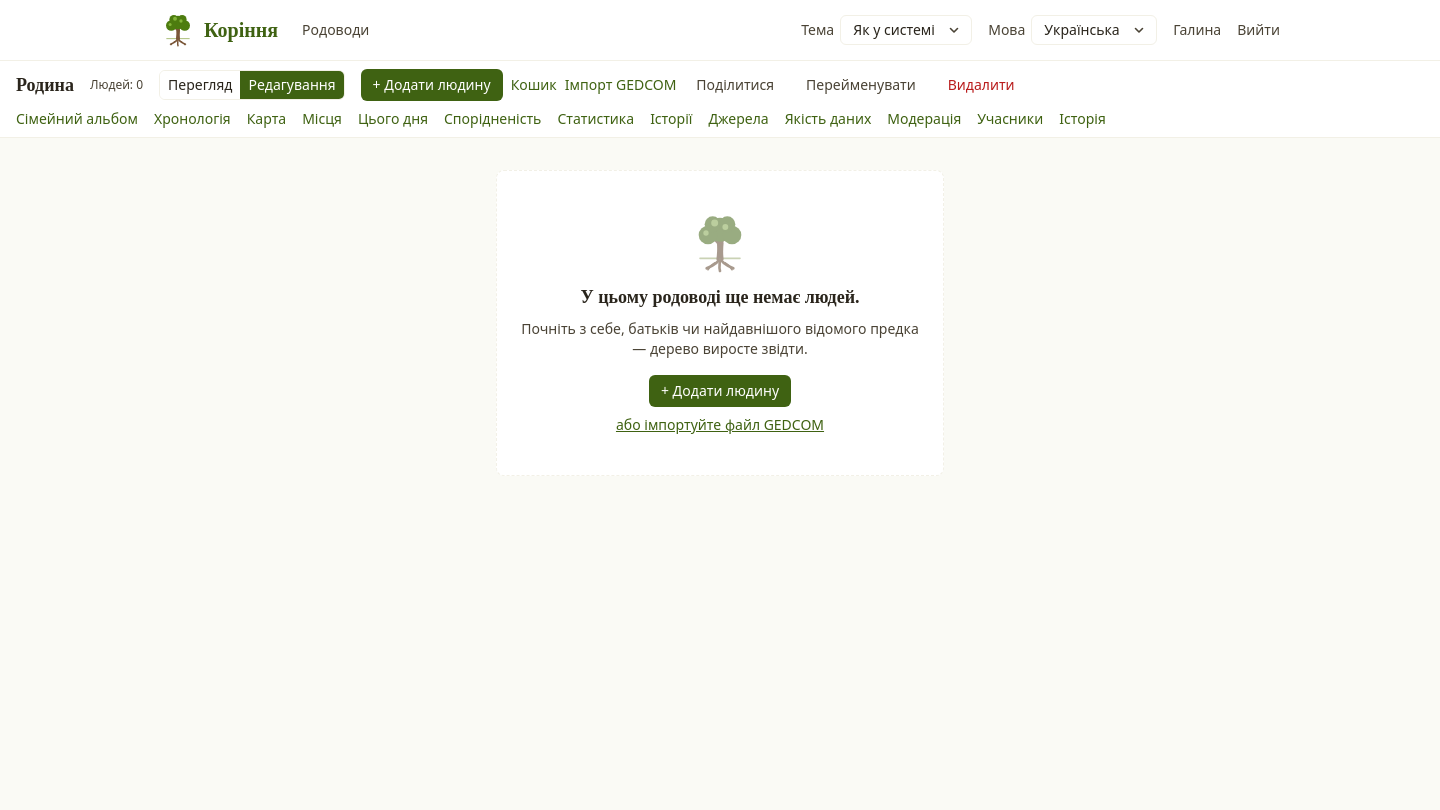
admin trees › renames and deletes the open tree from builder mode, for admins only
Check: the heading "Родина" is shown, box [16,71,74,99]
Click the button with aria-label "Перейменувати родовід «Родина»": (861, 85) [794,69,928,101]
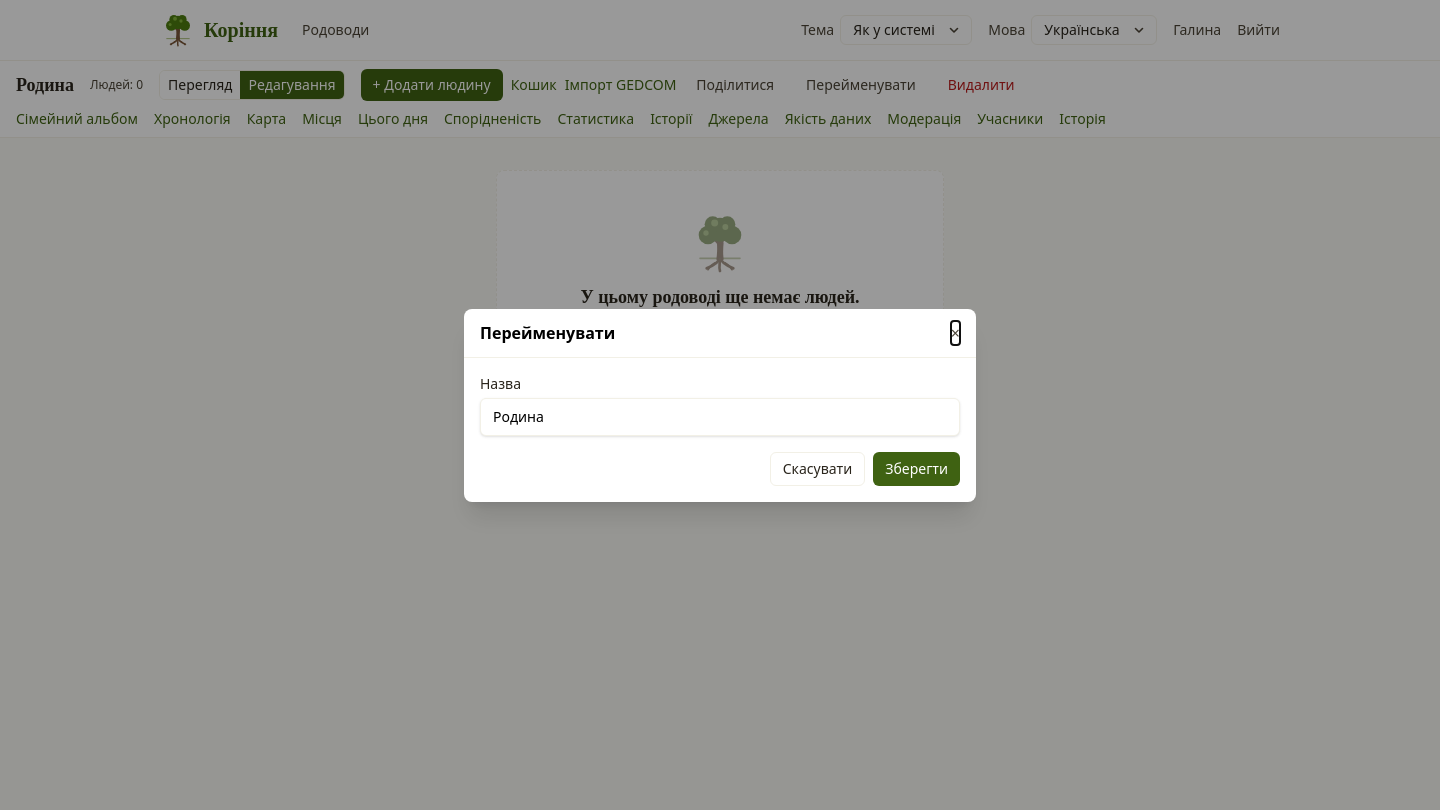
Replace the text in the field labelled "Назва" with "Наша родина": (720, 416) [480,398,960,436]
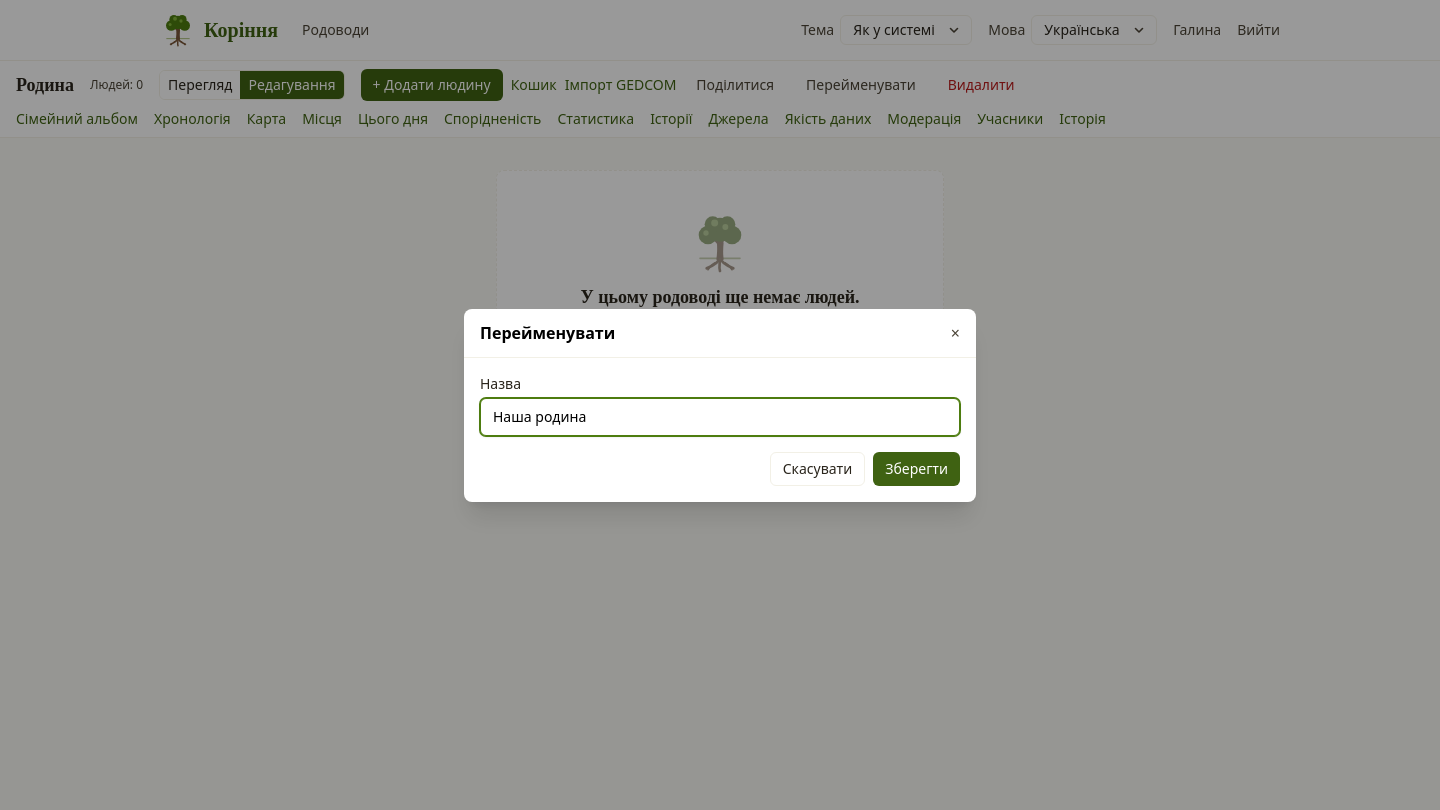
Click the button "Зберегти": (917, 468) [873,452,960,486]
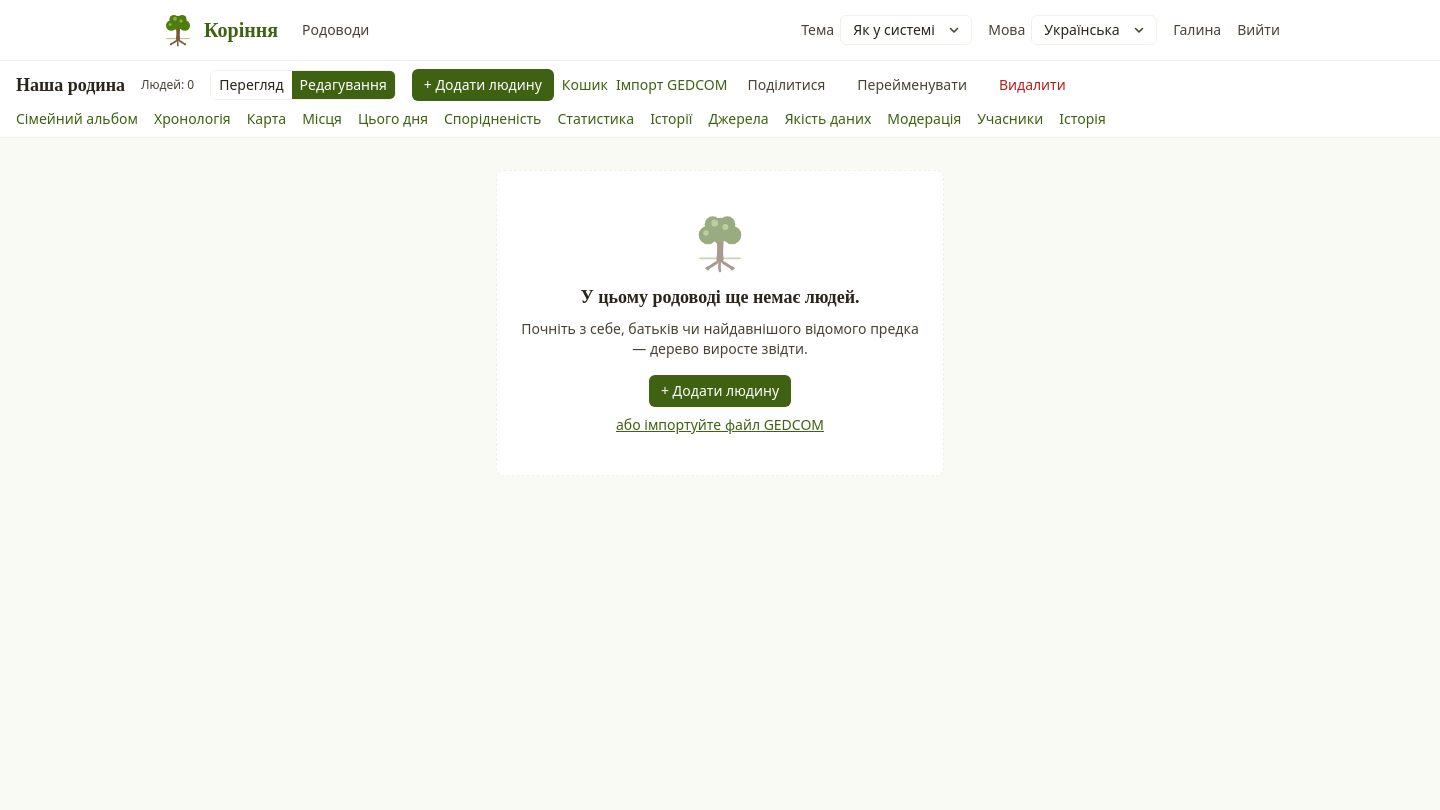
Check: the heading "Наша родина" is shown, box [16,71,125,99]
Click the button with aria-label "Видалити родовід «Наша родина»": (1032, 85) [987,69,1078,101]
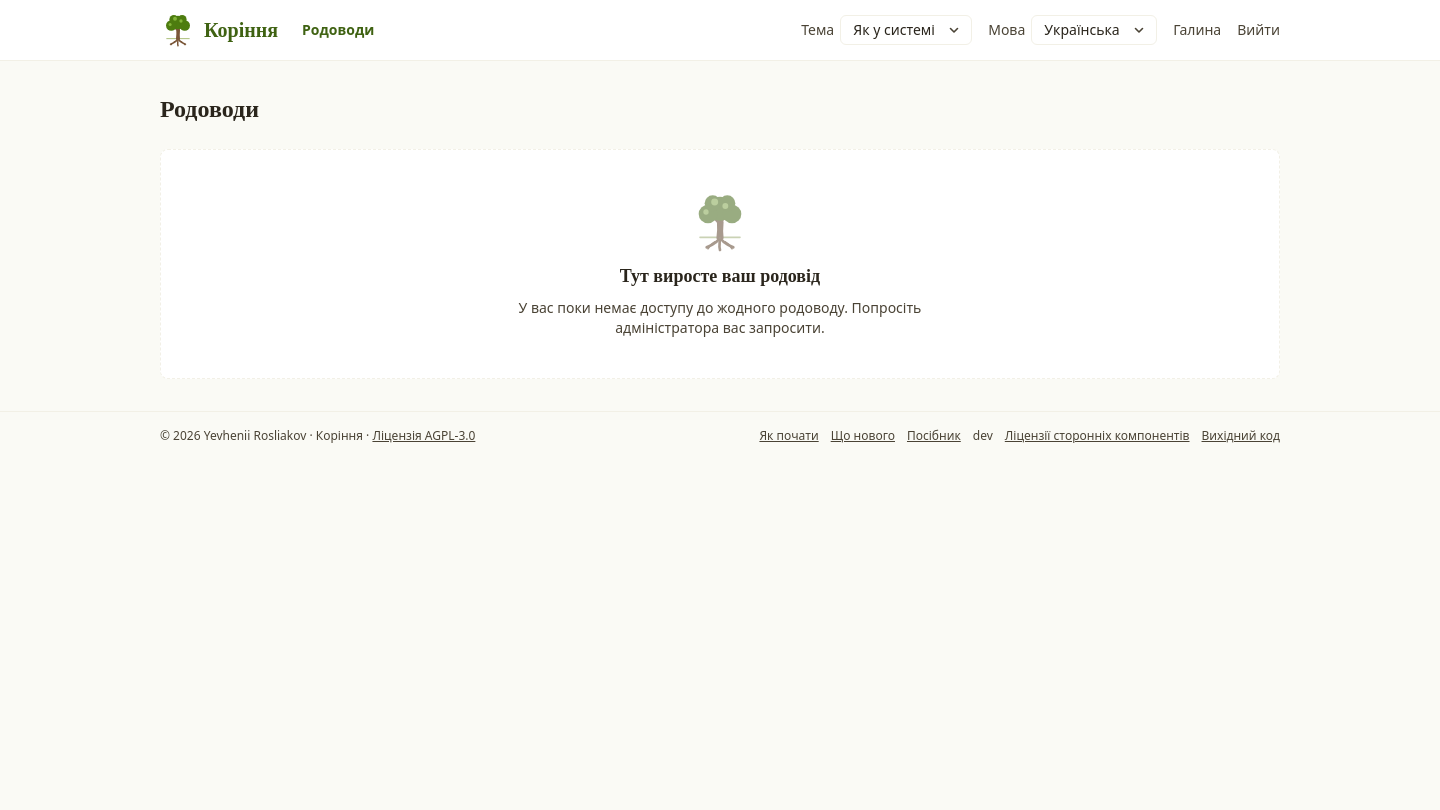
Check: the heading "Родоводи" is shown, box [160,93,259,125]
